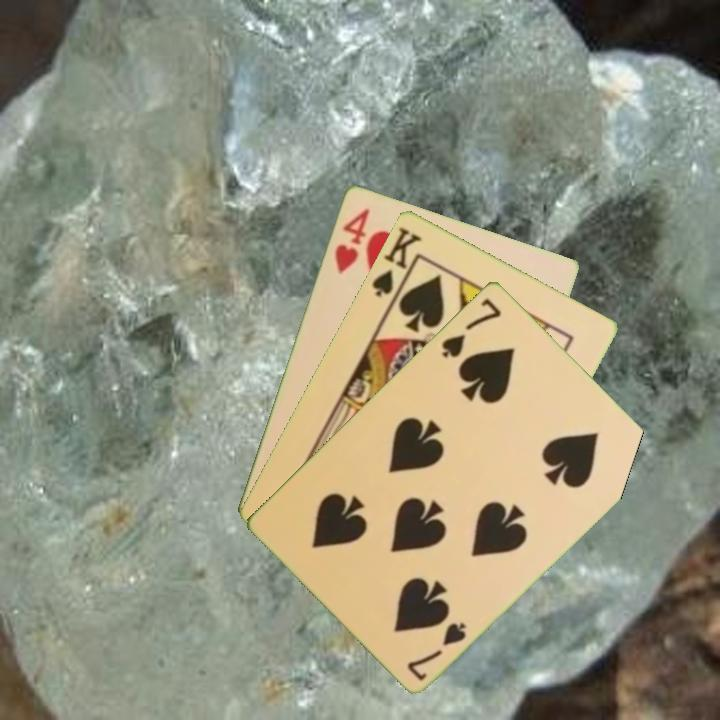4h: (331, 204, 373, 277)
7s: (437, 293, 504, 361), (403, 618, 470, 684)
Ks: (368, 222, 424, 299)
